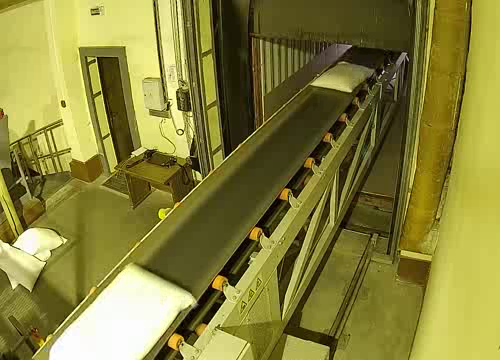bag: (43, 258, 205, 360), (309, 55, 380, 99)
